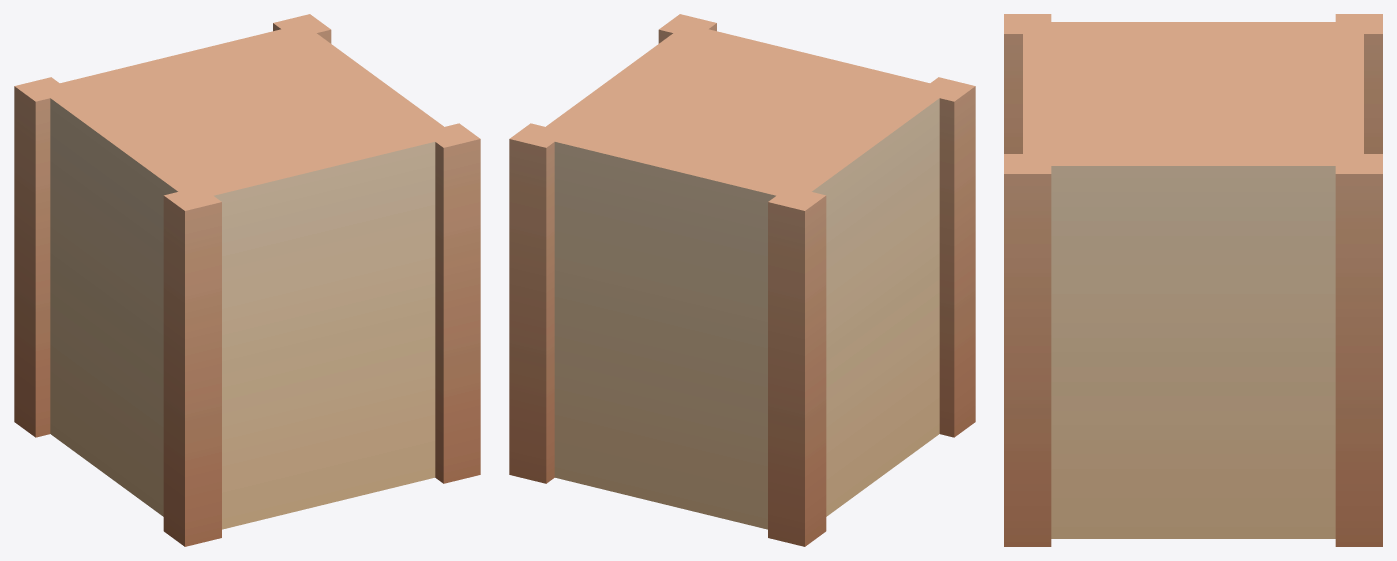
File: tower-square-mid.glb
3 views of the same model, side by side, from view 1: azimuth 30°, elevation 25°; view 2: azimuth 150°, elevation 25°; view 3: azimuth 270°, elevation 25° (orthographic). The views are drawn at different scales.
Parts seen in each view (by area): view 1: tower-square-mid; view 2: tower-square-mid; view 3: tower-square-mid.
Boxes of the visible parts, x1=… form: tower-square-mid: x1=14, y1=14, x2=480, y2=546; tower-square-mid: x1=509, y1=14, x2=975, y2=546; tower-square-mid: x1=1004, y1=14, x2=1382, y2=546.
Size of the model in its own units: 0.93 by 1.01 by 0.93.
Materials: 1 (1 with a texture image).
